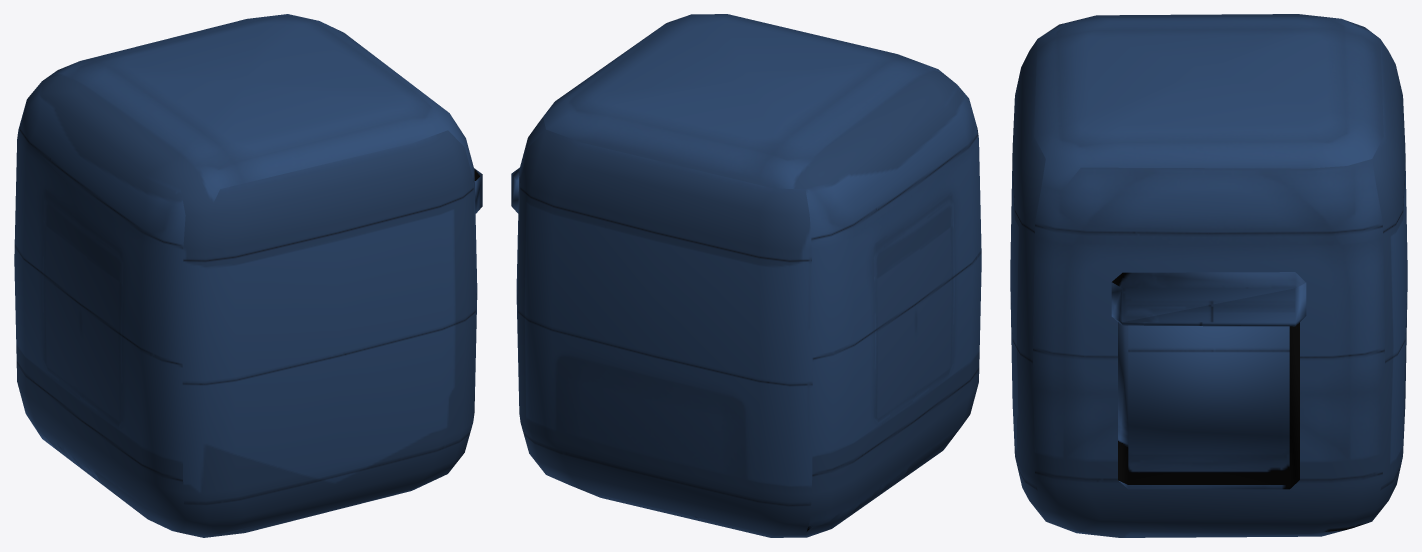
The model's file is Tano_PerneraArribaIzq.fbx.
3 views of the same model, side by side, from view 1: azimuth 30°, elevation 25°; view 2: azimuth 150°, elevation 25°; view 3: azimuth 270°, elevation 25° (orthographic). The views are drawn at different scales.
Visible parts, largest first — view 1: Tano_PerneraArribaIzq; view 2: Tano_PerneraArribaIzq; view 3: Tano_PerneraArribaIzq.
Boxes of the visible parts, x1=… form: Tano_PerneraArribaIzq: x1=14, y1=14, x2=482, y2=537; Tano_PerneraArribaIzq: x1=511, y1=14, x2=981, y2=537; Tano_PerneraArribaIzq: x1=1010, y1=14, x2=1407, y2=537.
Size of the model in its own units: 1.39 by 1.43 by 1.26.
